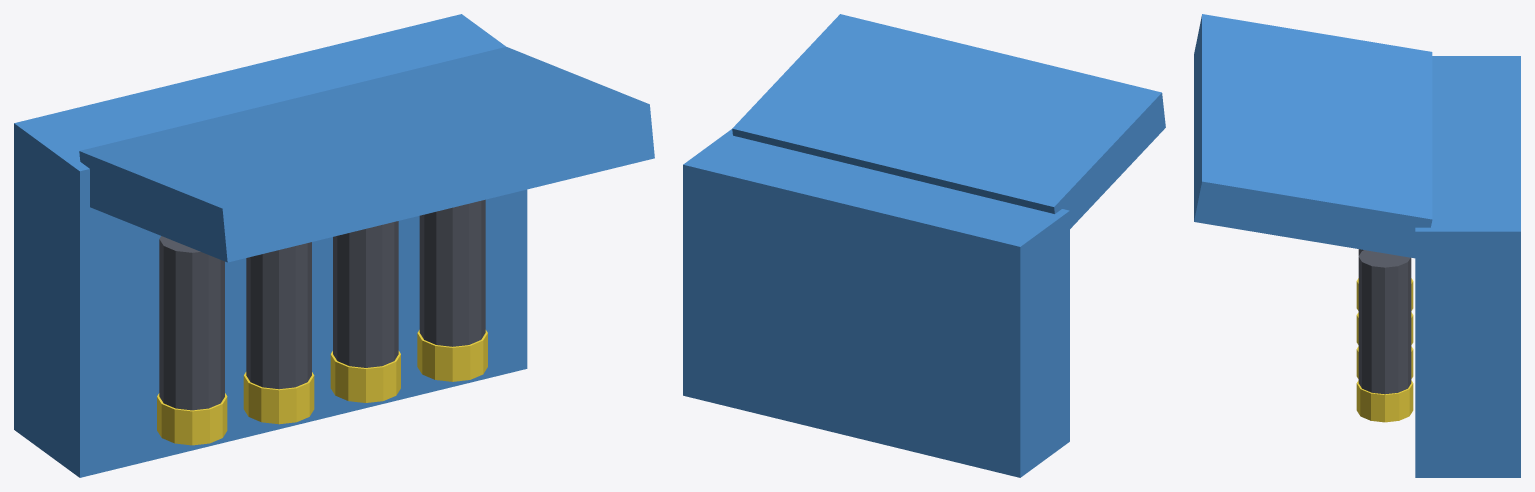
Rendered from 26_case_blue_open.glb.
3 views of the same model, side by side, from view 1: azimuth 30°, elevation 25°; view 2: azimuth 150°, elevation 25°; view 3: azimuth 270°, elevation 25° (orthographic). The views are drawn at different scales.
Parts seen in each view (by area): view 1: part_1, part_2, part_4, part_10, part_8, part_6, part_7, part_5, part_11, part_9; view 2: part_1, part_2; view 3: part_2, part_1, part_10, part_11.
Boxes of the visible parts, x1=… form: part_1: x1=14, y1=14, x2=527, y2=477; part_2: x1=79, y1=47, x2=654, y2=262; part_4: x1=159, y1=236, x2=224, y2=410; part_10: x1=419, y1=199, x2=485, y2=346; part_8: x1=333, y1=221, x2=398, y2=367; part_6: x1=246, y1=242, x2=311, y2=389; part_7: x1=243, y1=372, x2=314, y2=424; part_5: x1=157, y1=393, x2=227, y2=445; part_11: x1=417, y1=330, x2=487, y2=381; part_9: x1=330, y1=351, x2=400, y2=402; part_1: x1=683, y1=129, x2=1069, y2=477; part_2: x1=732, y1=14, x2=1165, y2=228; part_2: x1=1194, y1=14, x2=1432, y2=258; part_1: x1=1415, y1=56, x2=1520, y2=477; part_10: x1=1358, y1=250, x2=1411, y2=394; part_11: x1=1356, y1=380, x2=1413, y2=422.
Size of the model in its own units: 1.1 by 0.8545 by 0.8657.
